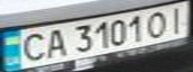0: (109, 16, 130, 46)
1: (124, 12, 148, 43), (90, 19, 112, 48)
3: (69, 21, 93, 54)
A: (39, 26, 69, 60)
C: (12, 29, 51, 63)
I: (163, 3, 190, 34)
O: (142, 8, 175, 38)
